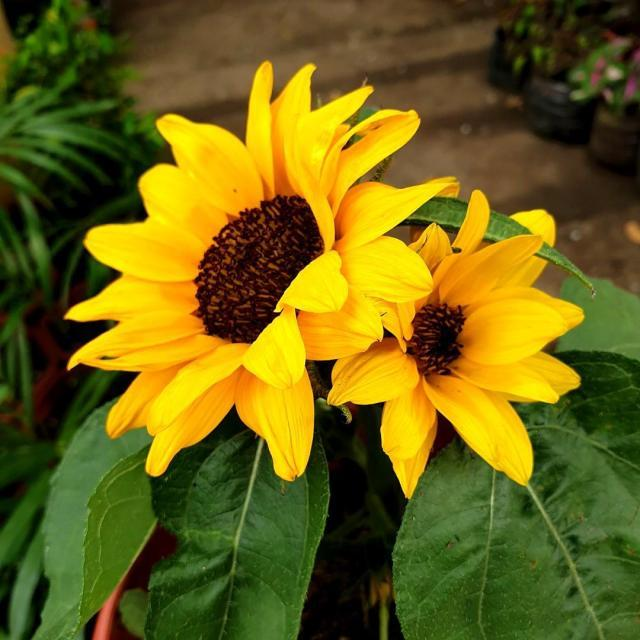sunflower: (62, 59, 460, 482), (326, 182, 584, 499)
